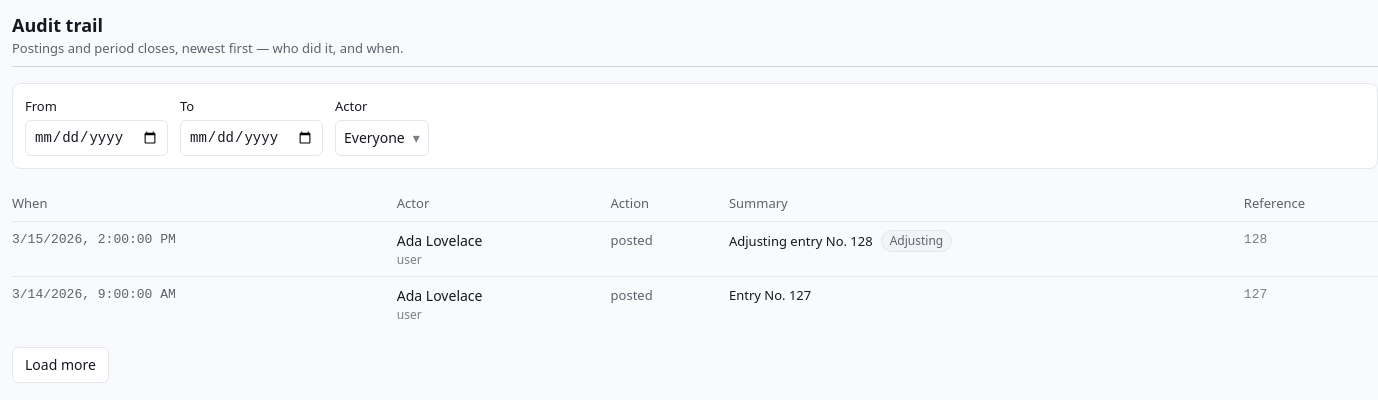
AuditView › appends the next page onto the first rather than replacing it
Expected: the text "Adjusting entry No. 128" is shown, x1=729 y1=232 x2=873 y2=250
Click the button "Load more": (60, 365) x1=12 y1=347 x2=109 y2=383
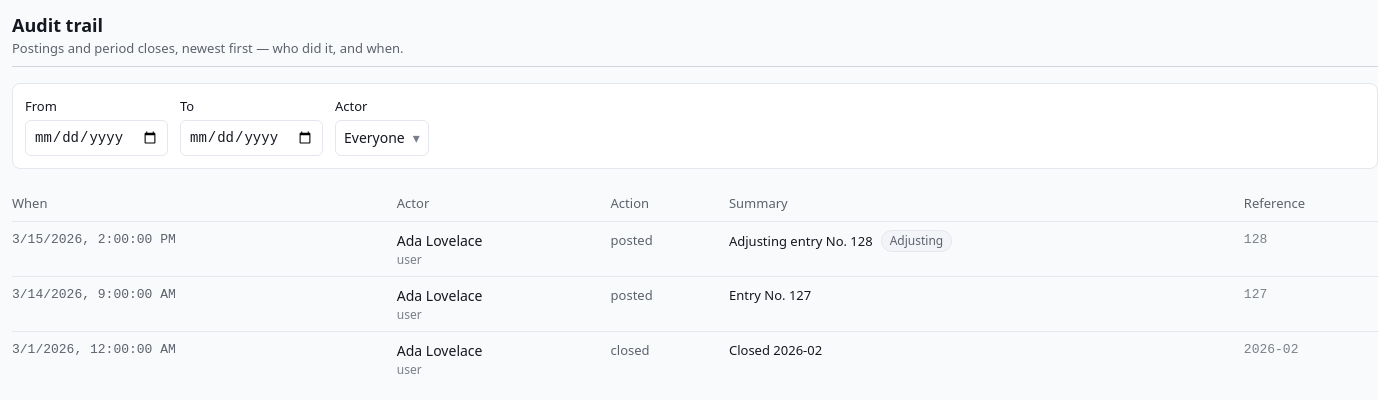
Expected: the text "Adjusting entry No. 128" is shown, x1=729 y1=232 x2=873 y2=250
Expected: the text "Closed 2026-02" is shown, x1=729 y1=341 x2=822 y2=359
Expected: the button "Load more" is gone
